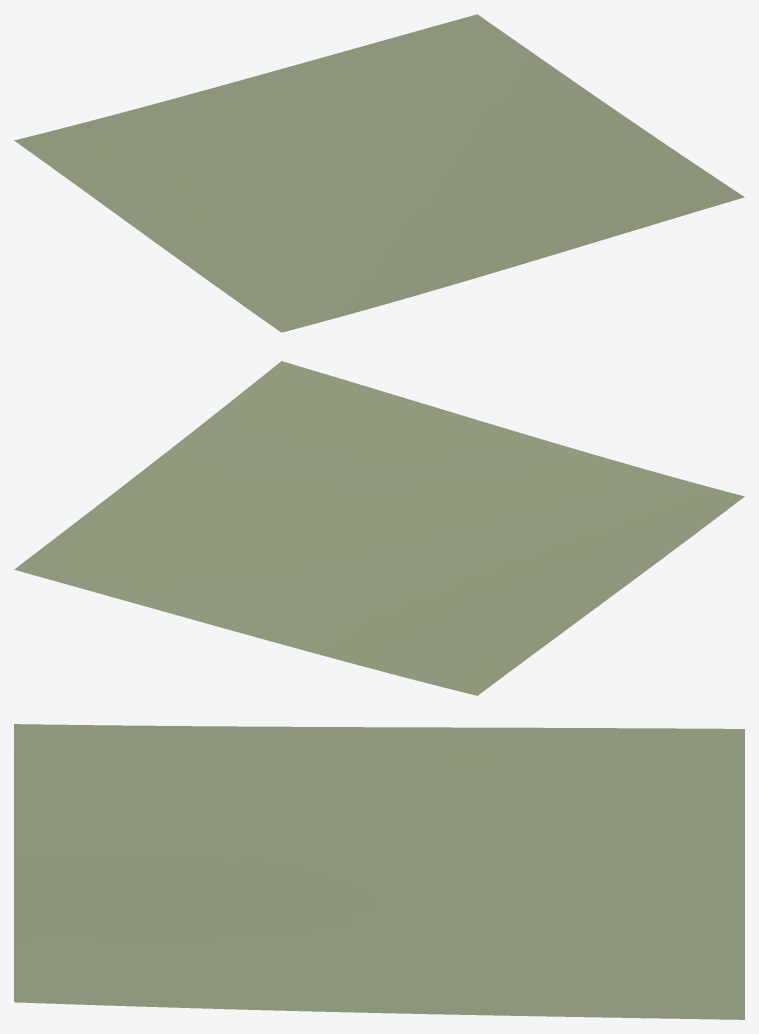
File: expanse-9-26.glb
3 renders of one model, top to bottom at view 1: azimuth 30°, elevation 25°; view 2: azimuth 150°, elevation 25°; view 3: azimuth 270°, elevation 25°, orthographic. The views are drawn at different scales.
Parts seen in each view (by area): view 1: expanse-9-26; view 2: expanse-9-26; view 3: expanse-9-26.
Part boxes in pixels (x1,y1,x2,y2): expanse-9-26: (14,14,744,332); expanse-9-26: (14,361,744,695); expanse-9-26: (14,724,744,1019).
Bounding box in the file's own units: 256 × 13.73 × 256.
